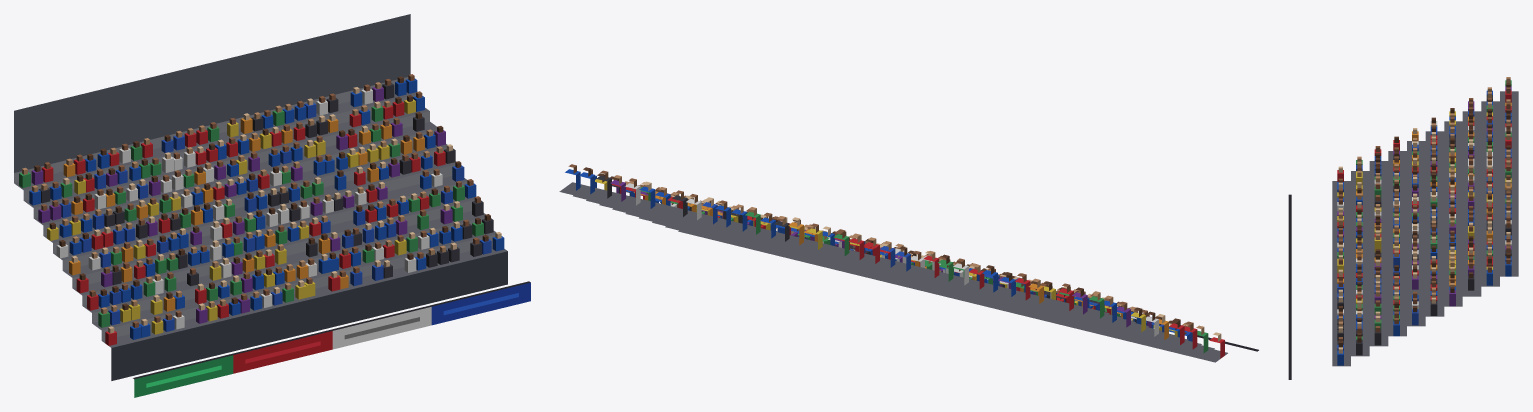
The model's file is stand_end_b_hd.glb.
3 renders of one model, left to right at view 1: azimuth 30°, elevation 25°; view 2: azimuth 150°, elevation 25°; view 3: azimuth 270°, elevation 25°, orthographic. The views are drawn at different scales.
Visible parts, largest first — view 1: stand_end_b; view 2: stand_end_b; view 3: stand_end_b.
Part boxes in pixels (x1=…): stand_end_b: x1=14, y1=14, x2=530, y2=397; stand_end_b: x1=559, y1=164, x2=1258, y2=362; stand_end_b: x1=1288, y1=77, x2=1518, y2=379.
Bounding box in the file's own units: 20.01 × 10 × 10.51.
